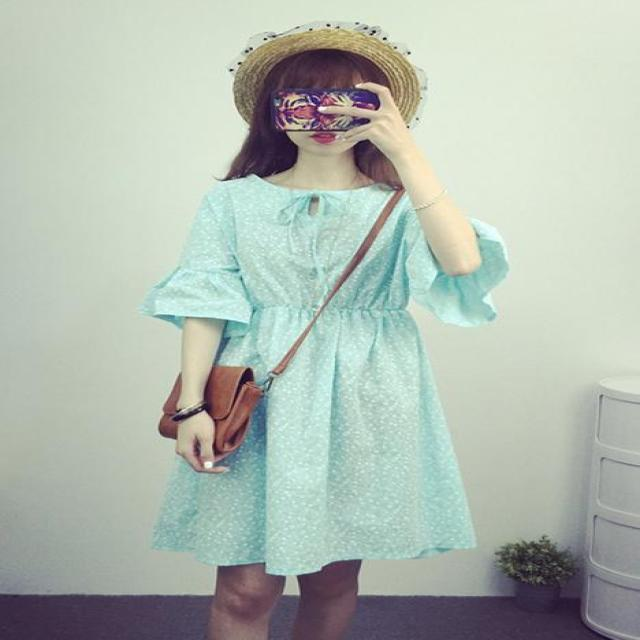short-sleeve-dress: (139, 153, 520, 586)
